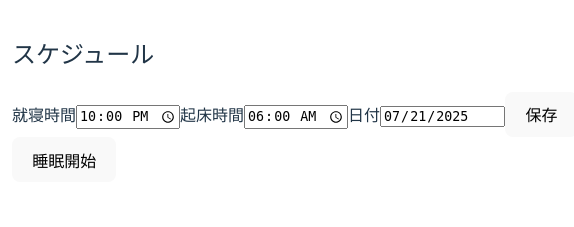
Test: timer counts up and stops
The width and height of the screenshot is (574, 227).
Click the button "睡眠開始". click: click(64, 160)
box: x1=12 y1=137 x2=116 y2=182
Wait 2000 ms
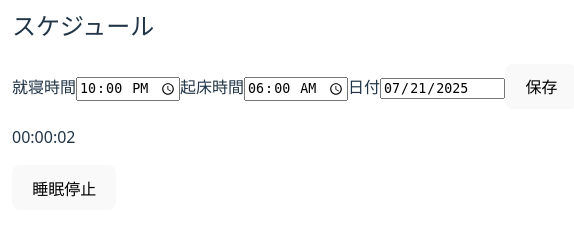
Expected: the text named "経過時間" reads "00:00:02", x1=12 y1=126 x2=76 y2=148
Click the button "睡眠停止". click: click(64, 188)
box: x1=12 y1=165 x2=116 y2=210
Wait 2000 ms
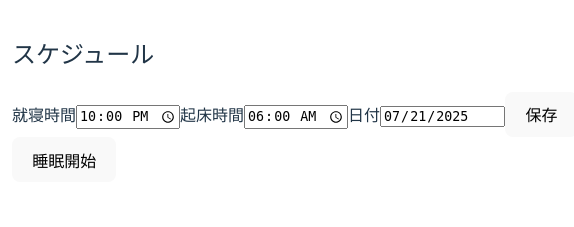
Expected: the text labelled "経過時間" is gone
